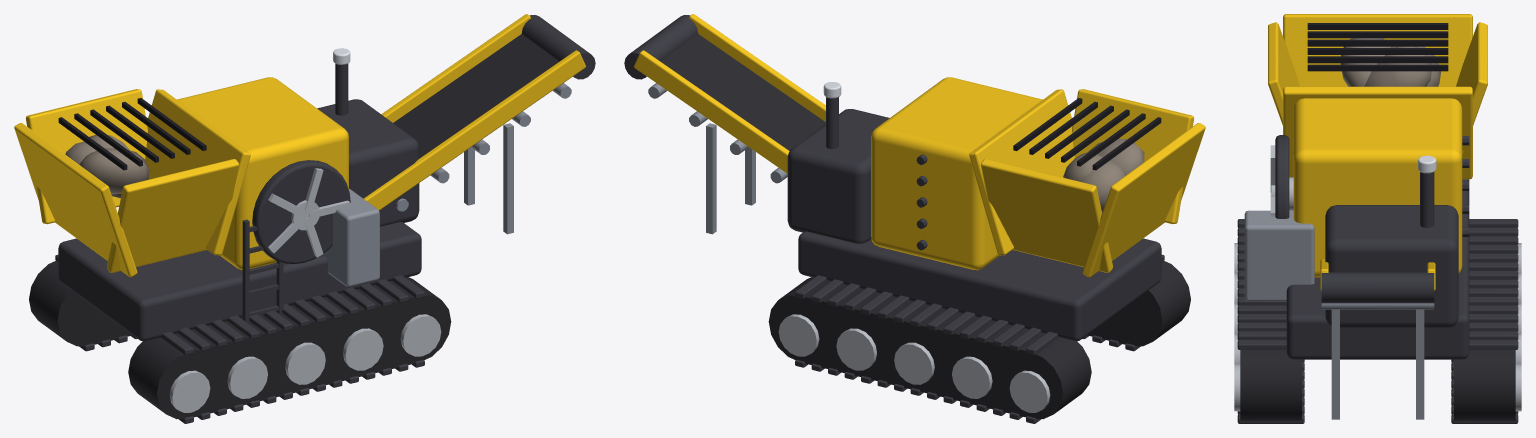
Rendered from vehicle_rock_fragmenter.glb.
The picture shows the model from 3 angles, left to right: view 1: azimuth 30°, elevation 25°; view 2: azimuth 150°, elevation 25°; view 3: azimuth 270°, elevation 25°; orthographic projection. The views are drawn at different scales.
Parts seen in each view (by area): view 1: Frame, Track.Belt, Crusher, Hopper.Side, Conveyor.Belt, Hopper.Back, Engine, Flywheel.Disc, Hopper.Front, Track.Pad, Conveyor.Rail, Track.Belt.001 (+17 smaller); view 2: Crusher, Frame, Track.Belt.001, Engine, Hopper.Side.001, Hopper.Back, Conveyor.Belt, Track.Pad.002, Hopper.Front, Hopper.Side, Track.Belt, Conveyor.Rail.001 (+15 smaller); view 3: Crusher, Engine, Frame, Track.Pad.002, Hopper.Grate, ControlPanel, Hopper.Back, Track.Belt, Track.Belt.001, Hopper.Front, Conveyor.Pulley, Track.Pad (+15 smaller).
Boxes of the visible parts, x1,y1,x2,y2 form: Frame: [58, 222, 421, 341]; Track.Belt: [128, 277, 451, 419]; Crusher: [177, 77, 348, 270]; Hopper.Side: [107, 159, 239, 272]; Conveyor.Belt: [393, 34, 559, 158]; Hopper.Back: [14, 123, 137, 277]; Engine: [317, 99, 419, 226]; Flywheel.Disc: [252, 160, 350, 263]; Hopper.Front: [145, 89, 250, 255]; Track.Pad: [161, 275, 424, 355]; Conveyor.Rail: [363, 50, 585, 210]; Track.Belt.001: [29, 261, 132, 346]; Crusher: [871, 77, 1042, 270]; Frame: [798, 231, 1161, 341]; Track.Belt.001: [768, 277, 1091, 419]; Engine: [787, 109, 889, 243]; Hopper.Side.001: [980, 159, 1112, 272]; Hopper.Back: [1082, 123, 1205, 277]; Conveyor.Belt: [660, 34, 825, 150]; Track.Pad.002: [795, 275, 1058, 355]; Hopper.Front: [969, 89, 1074, 255]; Hopper.Side: [1072, 89, 1194, 224]; Track.Belt: [1087, 261, 1190, 346]; Conveyor.Rail.001: [634, 50, 789, 173]; Crusher: [1293, 98, 1462, 277]; Engine: [1325, 205, 1458, 328]; Frame: [1286, 179, 1469, 359]; Track.Pad.002: [1469, 219, 1518, 349]; Hopper.Grate: [1307, 23, 1448, 71]; ControlPanel: [1244, 210, 1314, 301]; Hopper.Back: [1283, 14, 1472, 86]; Track.Belt: [1240, 349, 1301, 421]; Track.Belt.001: [1454, 349, 1515, 421]; Hopper.Front: [1283, 86, 1472, 179]; Conveyor.Pulley: [1321, 272, 1434, 303]; Track.Pad: [1237, 219, 1286, 349].
Bounding box in the file's own units: 4.52 × 2.11 × 2.04.
